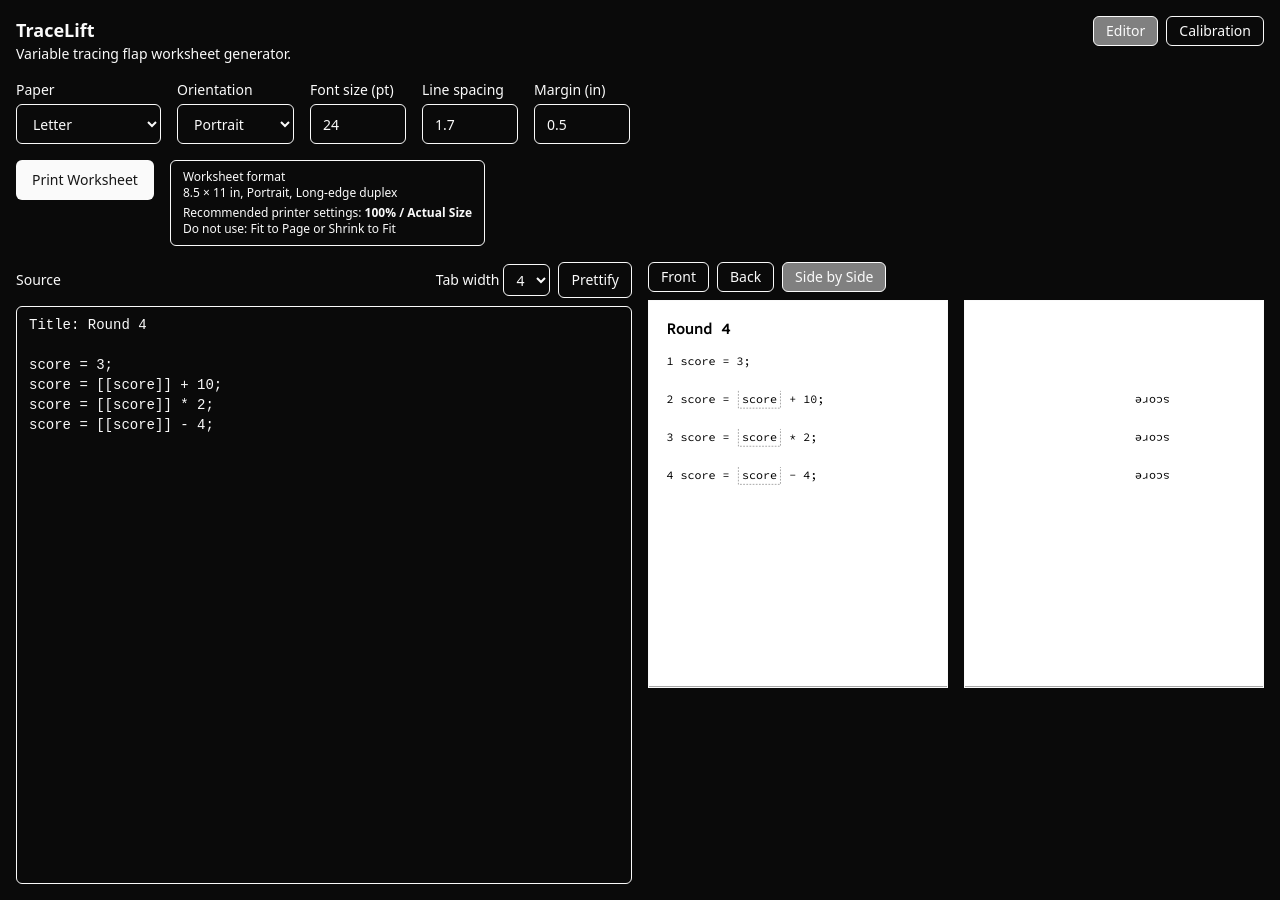
App › applies the page preset when switching paper size
Check: the number field labelled "Font size (pt)" holds "24", box 310,104 -> 406,144
Select "11 × 17" in the dropdown labelled "Paper" at (88, 124), box 16,104 -> 161,144
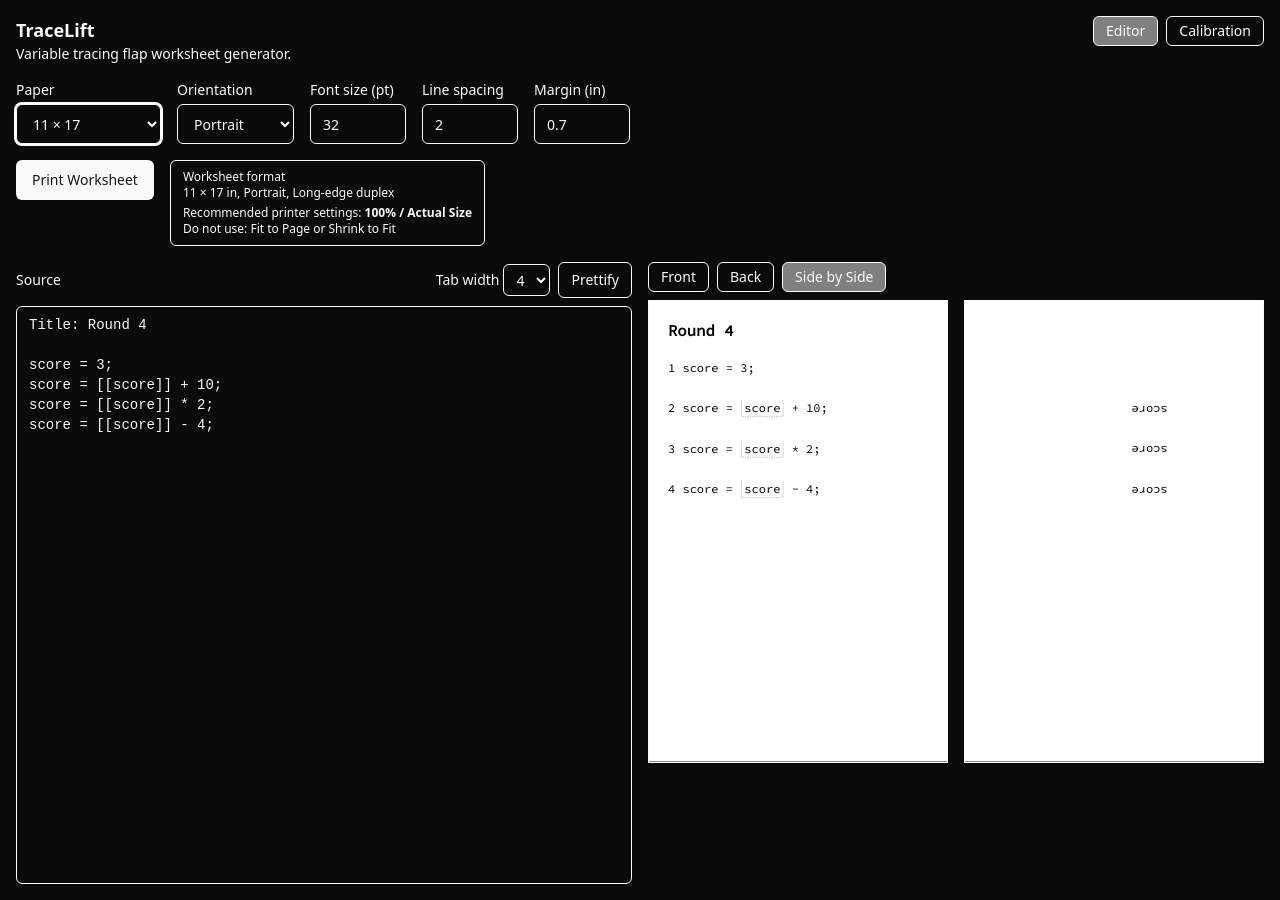
Check: the number field labelled "Font size (pt)" holds "32", box 310,104 -> 406,144
